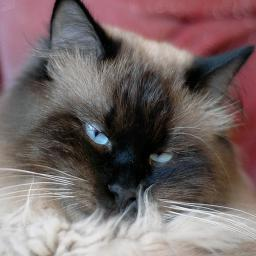catnose: (107, 183, 142, 213)
